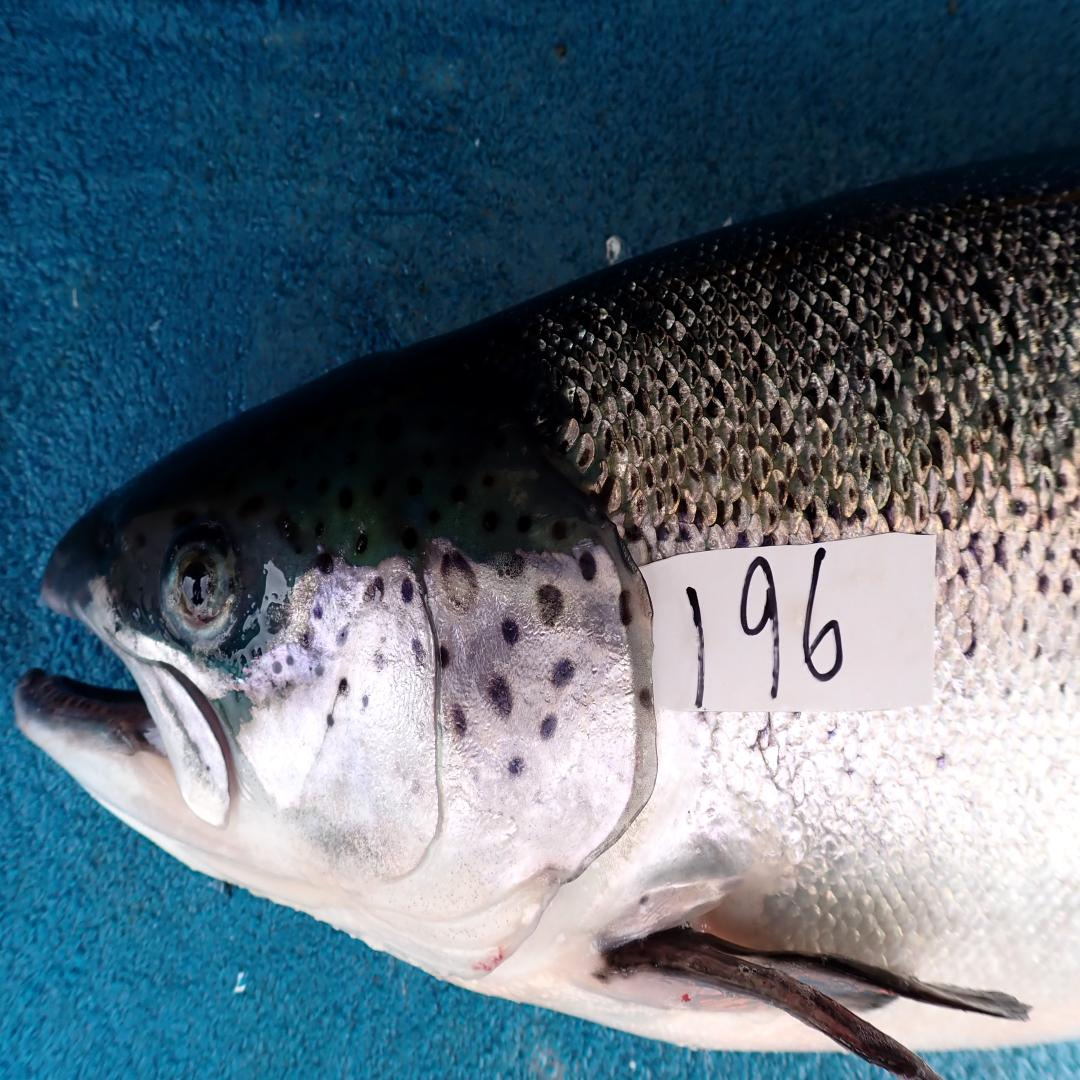roi: (232, 543, 651, 986)
